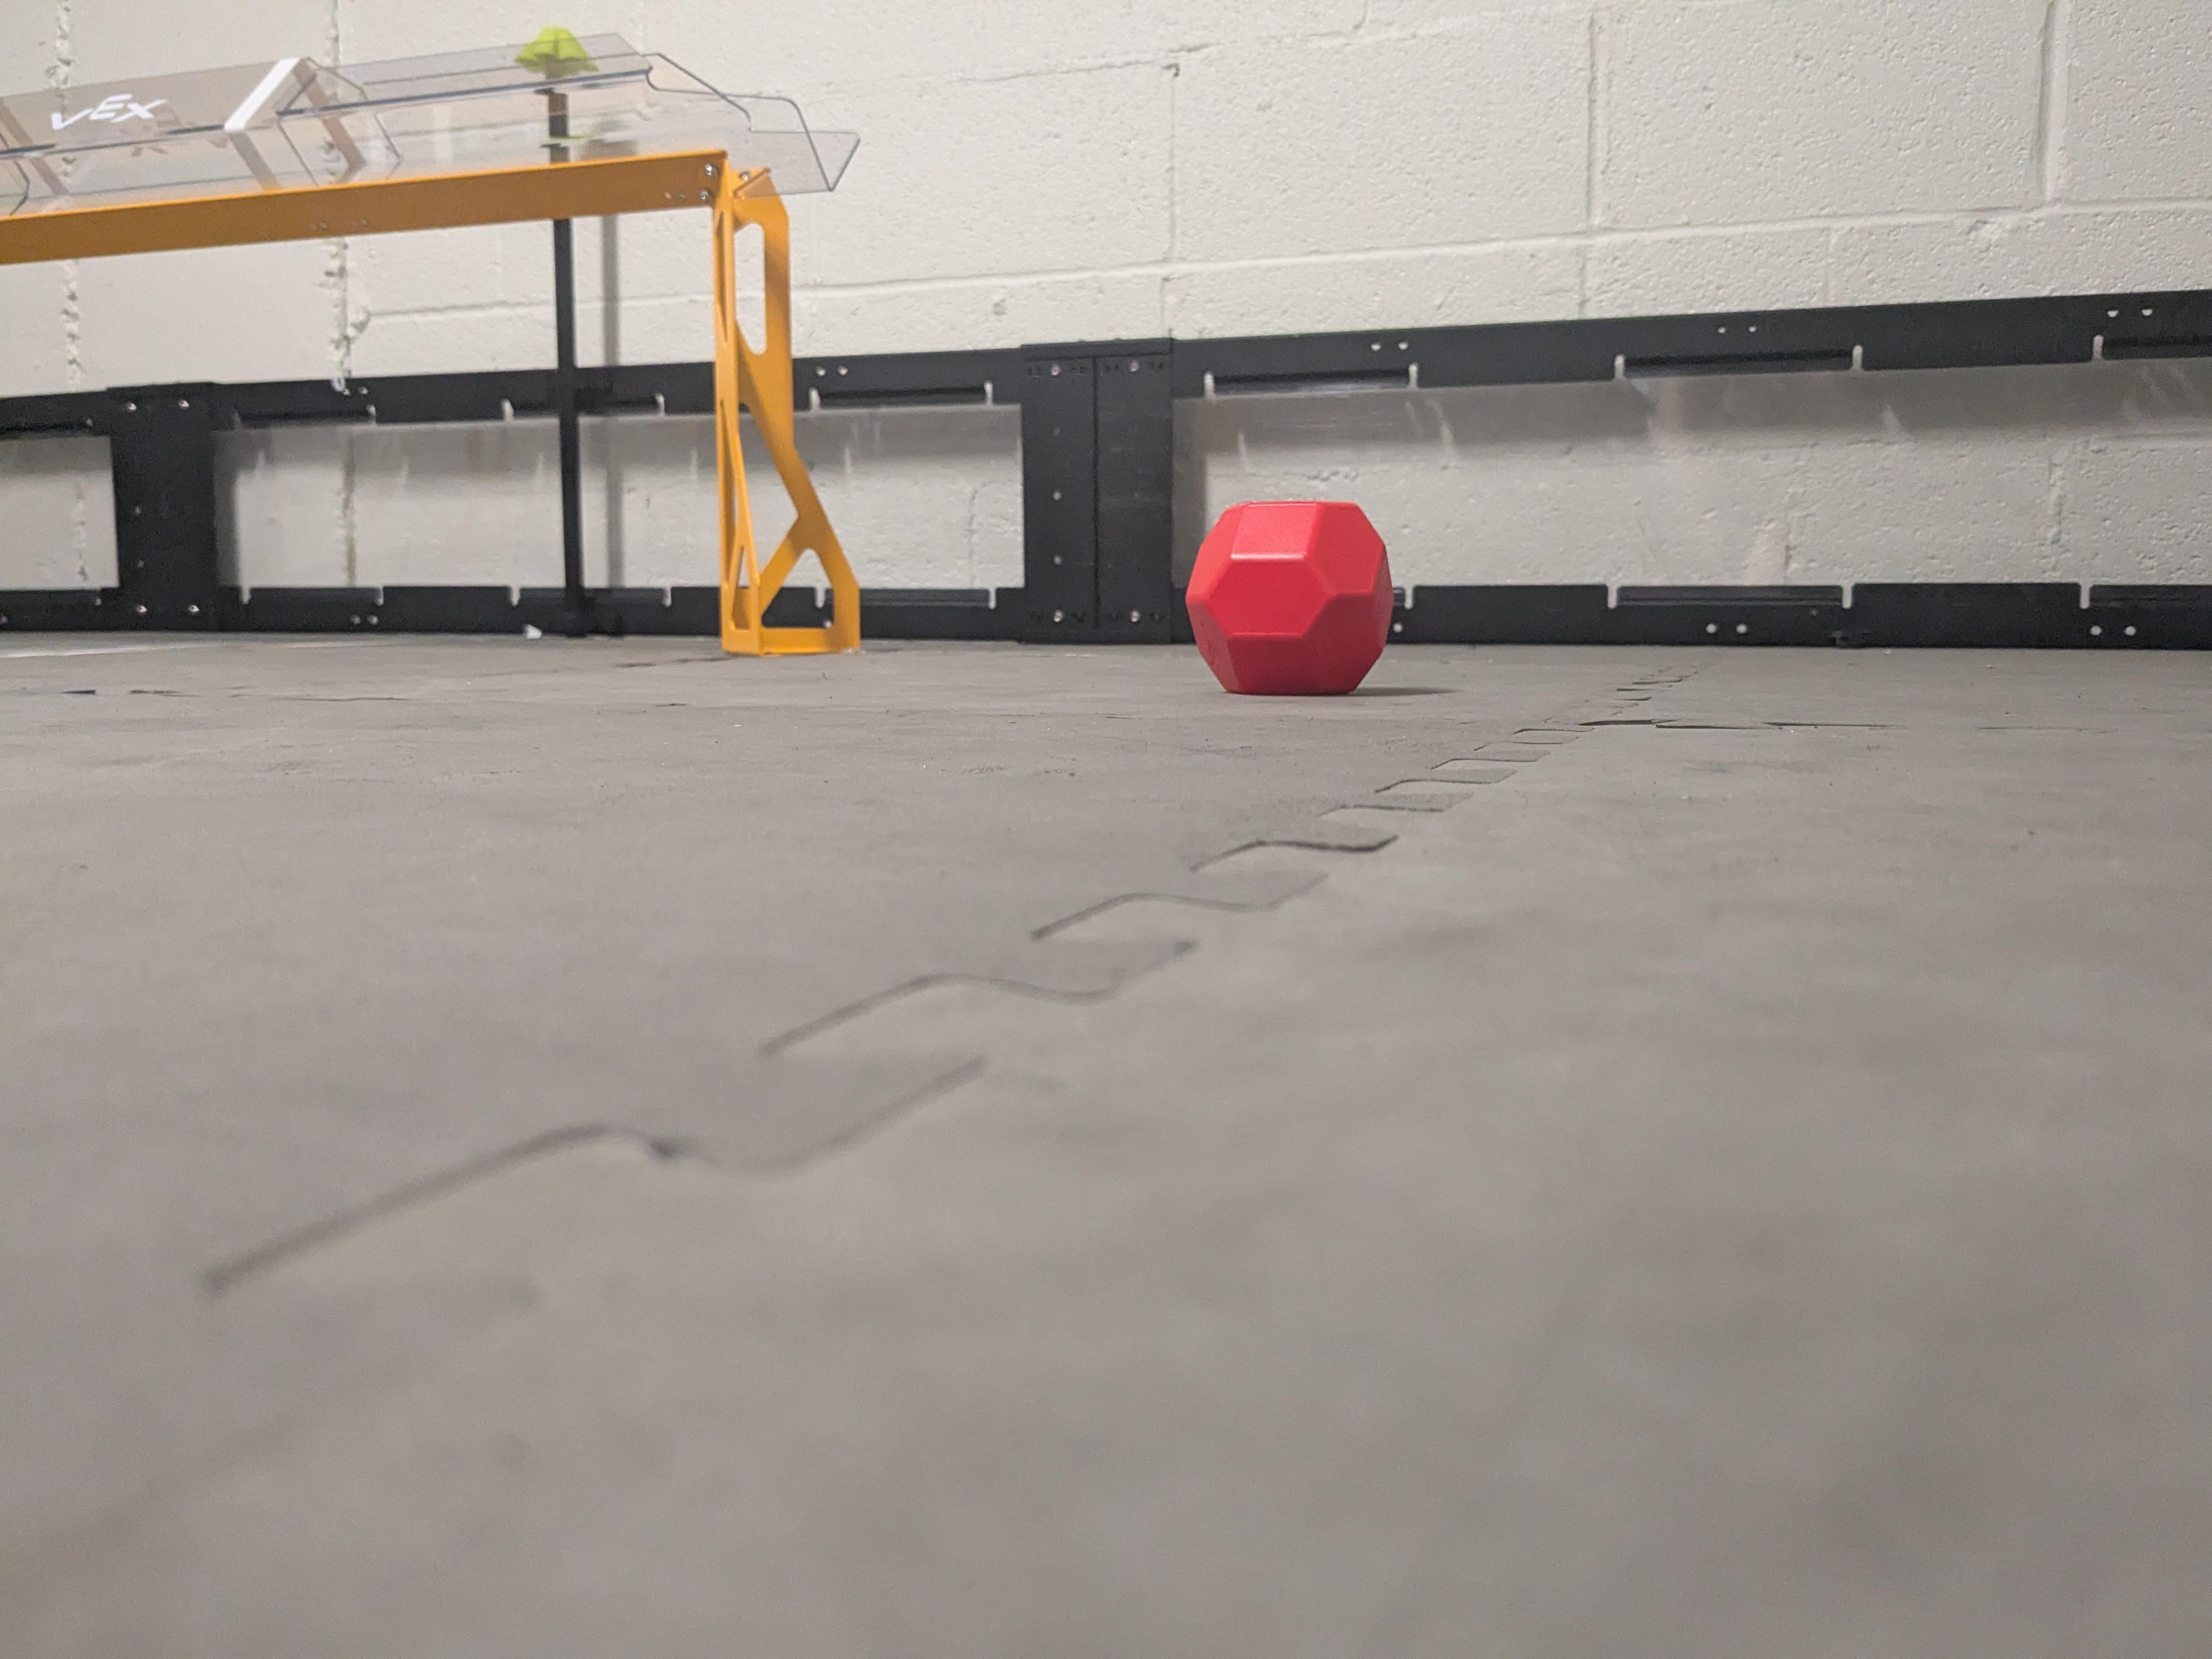Vex-Pieces-RED: (1188, 505, 1390, 692)
